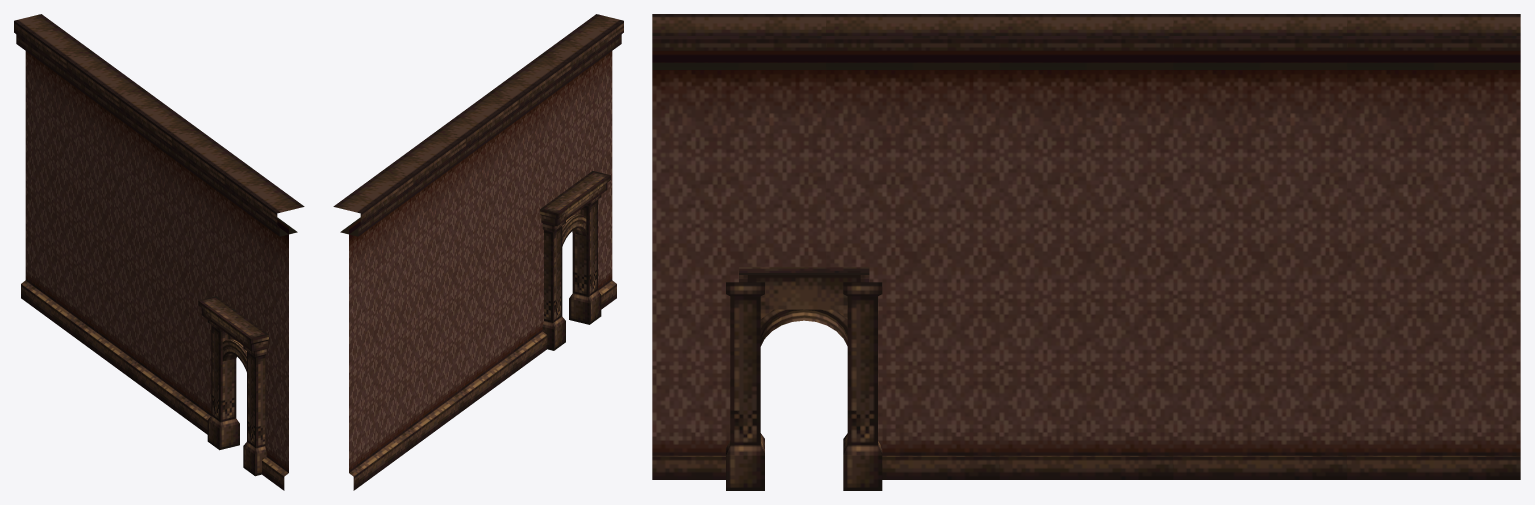
Rendered from EnvBdgMD_Snow_Mansion_A_Indoor_RoomWall_B.FBX.
The picture shows the model from 3 angles, left to right: view 1: azimuth 30°, elevation 25°; view 2: azimuth 150°, elevation 25°; view 3: azimuth 270°, elevation 25°; orthographic projection. The views are drawn at different scales.
Parts seen in each view (by area): view 1: EnvBdgMD_Snow_Mansion_A_Indoor_RoomWall_B; view 2: EnvBdgMD_Snow_Mansion_A_Indoor_RoomWall_B; view 3: EnvBdgMD_Snow_Mansion_A_Indoor_RoomWall_B.
Boxes of the visible parts, bbox=[...] form: EnvBdgMD_Snow_Mansion_A_Indoor_RoomWall_B: bbox=[14, 14, 304, 490]; EnvBdgMD_Snow_Mansion_A_Indoor_RoomWall_B: bbox=[333, 14, 623, 490]; EnvBdgMD_Snow_Mansion_A_Indoor_RoomWall_B: bbox=[652, 14, 1520, 490].
Bounding box in the file's own units: 75 × 585 × 1000.
Materials: 1 (1 with a texture image).
